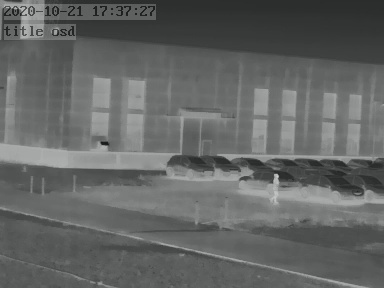person: (270, 173, 282, 201)
vehicle: (298, 175, 364, 201), (238, 170, 297, 192), (165, 153, 212, 178), (205, 153, 242, 177), (350, 173, 382, 200), (231, 154, 271, 172), (346, 155, 381, 170), (260, 155, 294, 169), (317, 156, 349, 170), (295, 155, 325, 169)
